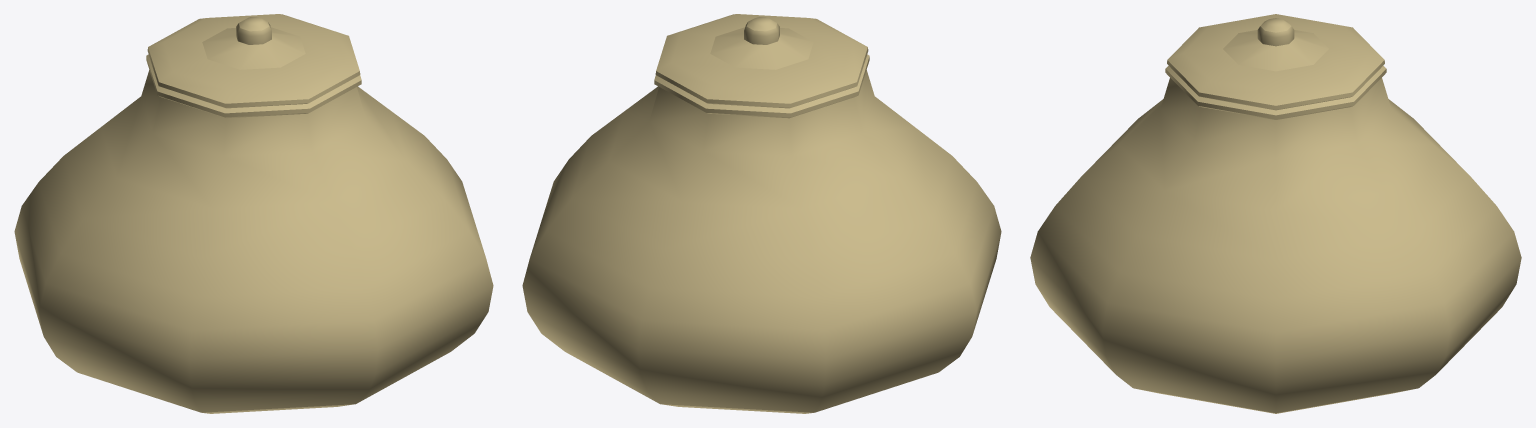
File: FBX_jar_01.fbx
The picture shows the model from 3 angles, left to right: view 1: azimuth 30°, elevation 25°; view 2: azimuth 150°, elevation 25°; view 3: azimuth 270°, elevation 25°; orthographic projection.
Visible parts, largest first — view 1: Jar_01; view 2: Jar_01; view 3: Jar_01.
Boxes of the visible parts, x1,y1,x2,y2 form: Jar_01: (14,14,493,413); Jar_01: (522,14,1001,413); Jar_01: (1030,14,1521,413).
Bounding box in the file's own units: 2.53 × 1.83 × 2.53.
